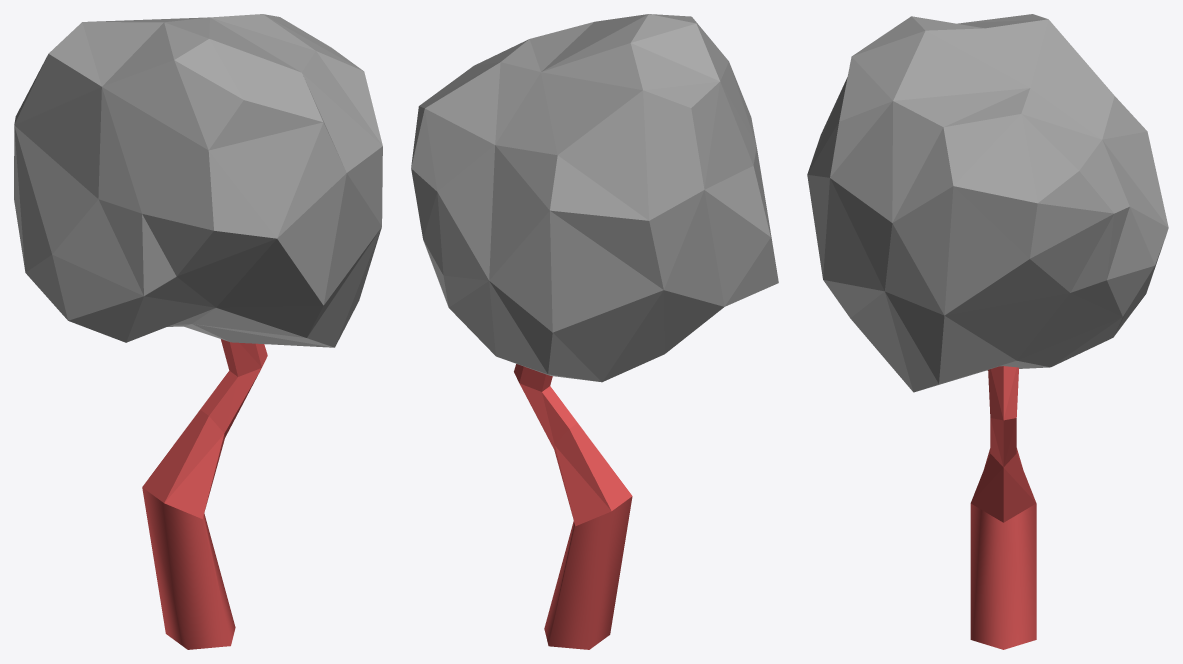
File: tree2.obj
3 renders of one model, left to right at view 1: azimuth 30°, elevation 25°; view 2: azimuth 150°, elevation 25°; view 3: azimuth 270°, elevation 25°, orthographic. The views are drawn at different scales.
Parts seen in each view (by area): view 1: Hedra001; view 2: Hedra001; view 3: Hedra001.
Part boxes in pixels (x1,y1,x2,y2): Hedra001: [14, 14, 382, 649]; Hedra001: [411, 14, 778, 649]; Hedra001: [807, 14, 1168, 649].
Bounding box in the file's own units: 1.64 × 3.03 × 1.69.
